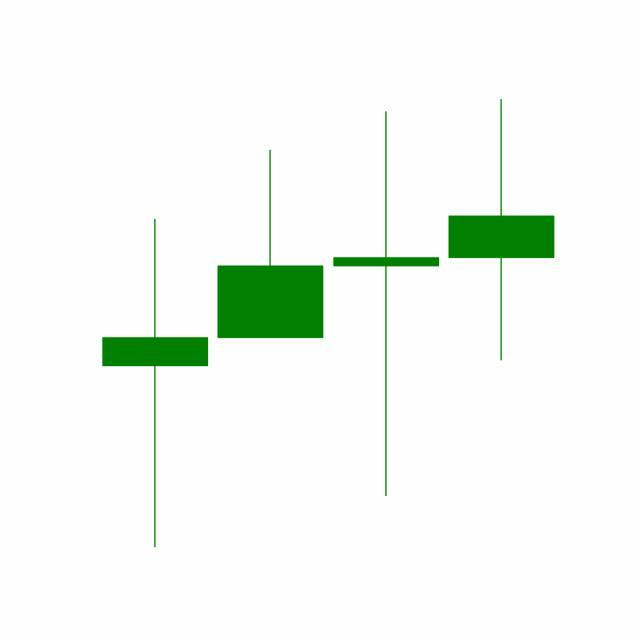Spinning Top: (329, 107, 445, 501)
